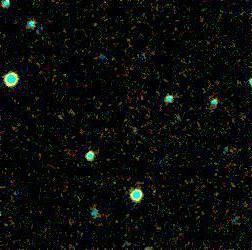star: (56, 102, 86, 132)
